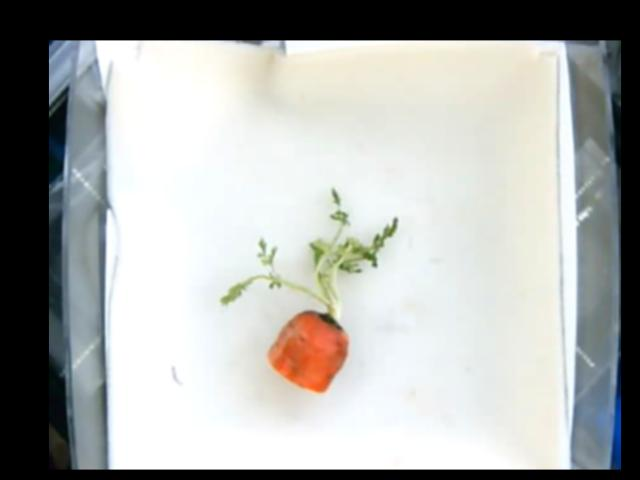Carrot: (220, 187, 398, 393)
